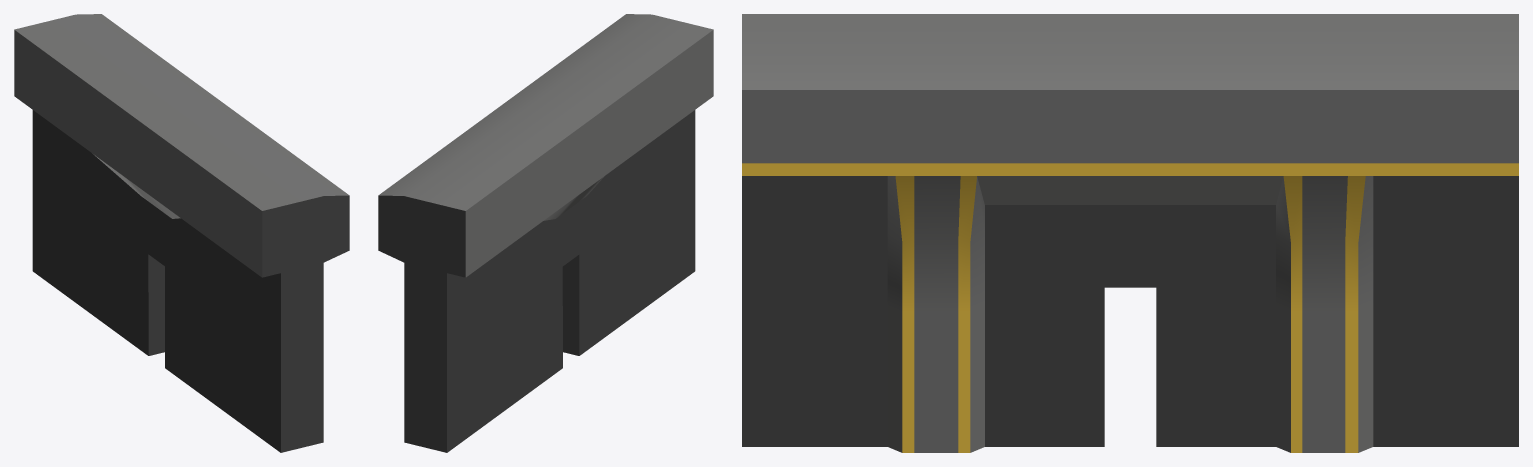
File: Factory_CorridorNarrow.fbx
3 renders of one model, left to right at view 1: azimuth 30°, elevation 25°; view 2: azimuth 150°, elevation 25°; view 3: azimuth 270°, elevation 25°, orthographic. The views are drawn at different scales.
Visible parts, largest first — view 1: FactoryWallNarrow; view 2: FactoryWallNarrow; view 3: FactoryWallNarrow.
Part boxes in pixels (<box>): FactoryWallNarrow: <box>14,14,349,452</box>; FactoryWallNarrow: <box>378,14,713,452</box>; FactoryWallNarrow: <box>742,14,1518,452</box>.
Bounding box in the file's own units: 20.39 × 54.82 × 100.
